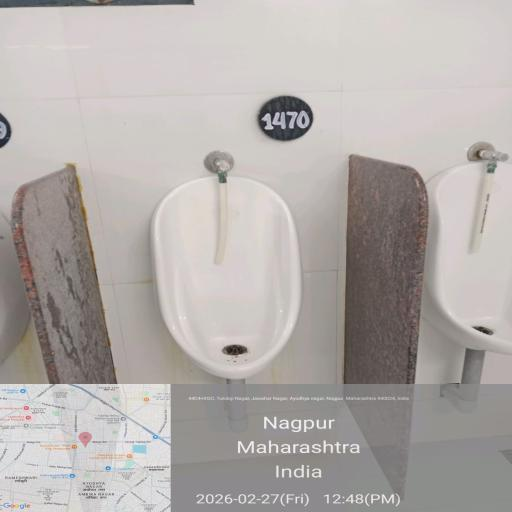clean_floor: (17, 15, 490, 154)
clean_urinal: (144, 208, 318, 389)
partial_dirty_floor: (6, 191, 132, 504)
